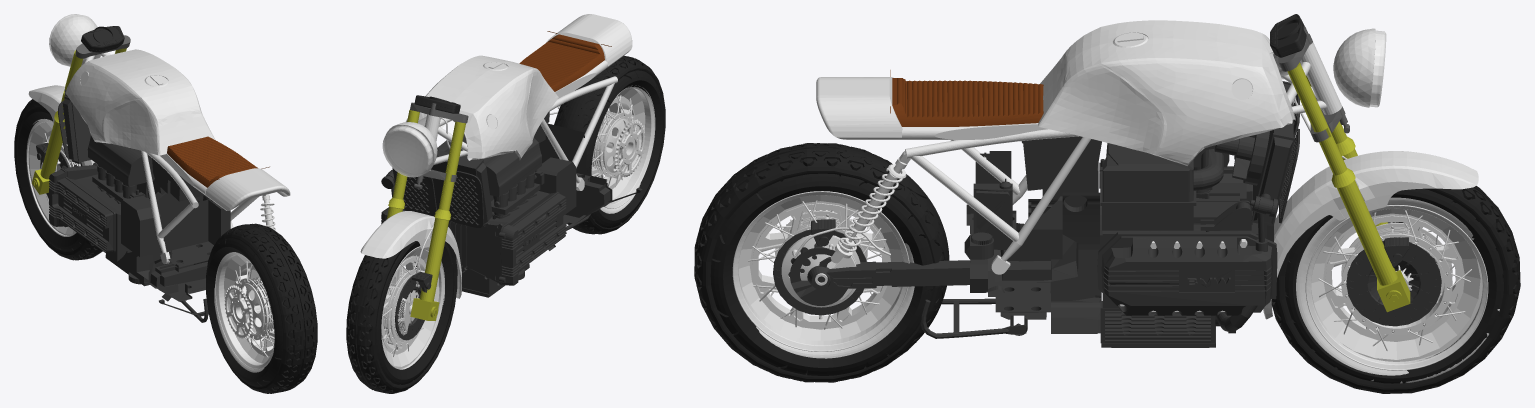
File: BMWK100.glb
3 renders of one model, left to right at view 1: azimuth 30°, elevation 25°; view 2: azimuth 150°, elevation 25°; view 3: azimuth 270°, elevation 25°, orthographic. The views are drawn at different scales.
Visible parts, largest first — view 1: Tanque, Neumatico_taco_trasero, Llanta_radios_trasera, Neumatico_liso_trasero, BMW_K100_BASE.011, BMW_K100_BASE.015, K100_ASIENTO, K100_COLIN, BMW_K100_BASE.007, Neumatico_liso_delantero, BMW_K100_BASE.035, Chasis (+17 smaller); view 2: Tanque, Neumatico_taco_delantero, Llanta_radios_trasera, Neumatico_liso_trasero, BMW_K100_BASE.015, Neumatico_liso_delantero, K100_ASIENTO, HORQUILLA_IZQ, GUARDA_BARRO, BMW_K100_BASE.011, K100_COLIN, Llanta_radios_delantera (+19 smaller); view 3: Tanque, BMW_K100_BASE.003, BMW_K100_BASE.011, Neumatico_liso_trasero, Neumatico_taco_trasero, Llanta_radios_delantera, Llanta_mecanizada_delantera, Llanta_mecanizada_trasera, Llanta_radios_trasera, GUARDA_BARRO, Neumatico_taco_delantero, Chasis (+21 smaller).
Boxes of the visible parts, bbox=[...] form: Tanque: bbox=[65, 49, 215, 155]; Neumatico_taco_trasero: bbox=[206, 223, 317, 393]; Llanta_radios_trasera: bbox=[214, 252, 274, 372]; Neumatico_liso_trasero: bbox=[206, 224, 310, 387]; BMW_K100_BASE.011: bbox=[136, 195, 214, 301]; BMW_K100_BASE.015: bbox=[49, 168, 115, 252]; K100_ASIENTO: bbox=[167, 136, 269, 187]; K100_COLIN: bbox=[160, 153, 290, 210]; BMW_K100_BASE.007: bbox=[63, 163, 203, 282]; Neumatico_liso_delantero: bbox=[17, 106, 84, 251]; BMW_K100_BASE.035: bbox=[121, 195, 160, 256]; Chasis: bbox=[84, 52, 258, 264]; Tanque: bbox=[406, 55, 558, 160]; Neumatico_taco_delantero: bbox=[346, 242, 457, 393]; Llanta_radios_trasera: bbox=[549, 85, 655, 213]; Neumatico_liso_trasero: bbox=[558, 60, 663, 234]; BMW_K100_BASE.015: bbox=[499, 192, 566, 285]; Neumatico_liso_delantero: bbox=[351, 241, 454, 384]; K100_ASIENTO: bbox=[519, 31, 611, 91]; HORQUILLA_IZQ: bbox=[410, 121, 465, 320]; GUARDA_BARRO: bbox=[360, 211, 461, 298]; BMW_K100_BASE.011: bbox=[539, 123, 612, 250]; K100_COLIN: bbox=[545, 14, 632, 97]; Llanta_radios_delantera: bbox=[381, 117, 450, 369]; Tanque: bbox=[1038, 20, 1295, 165]; BMW_K100_BASE.003: bbox=[1101, 81, 1294, 315]; BMW_K100_BASE.011: bbox=[966, 151, 1101, 335]; Neumatico_liso_trasero: bbox=[705, 145, 949, 375]; Neumatico_taco_trasero: bbox=[694, 143, 945, 382]; Llanta_radios_delantera: bbox=[1294, 97, 1499, 383]; Llanta_mecanizada_delantera: bbox=[1311, 209, 1482, 361]; Llanta_mecanizada_trasera: bbox=[738, 195, 903, 340]; Llanta_radios_trasera: bbox=[732, 191, 914, 358]; GUARDA_BARRO: bbox=[1263, 151, 1478, 319]; Neumatico_taco_delantero: bbox=[1271, 186, 1520, 393]; Chasis: bbox=[905, 42, 1341, 274].
Size of the model in its own units: 44.08 by 80.67 by 164.
